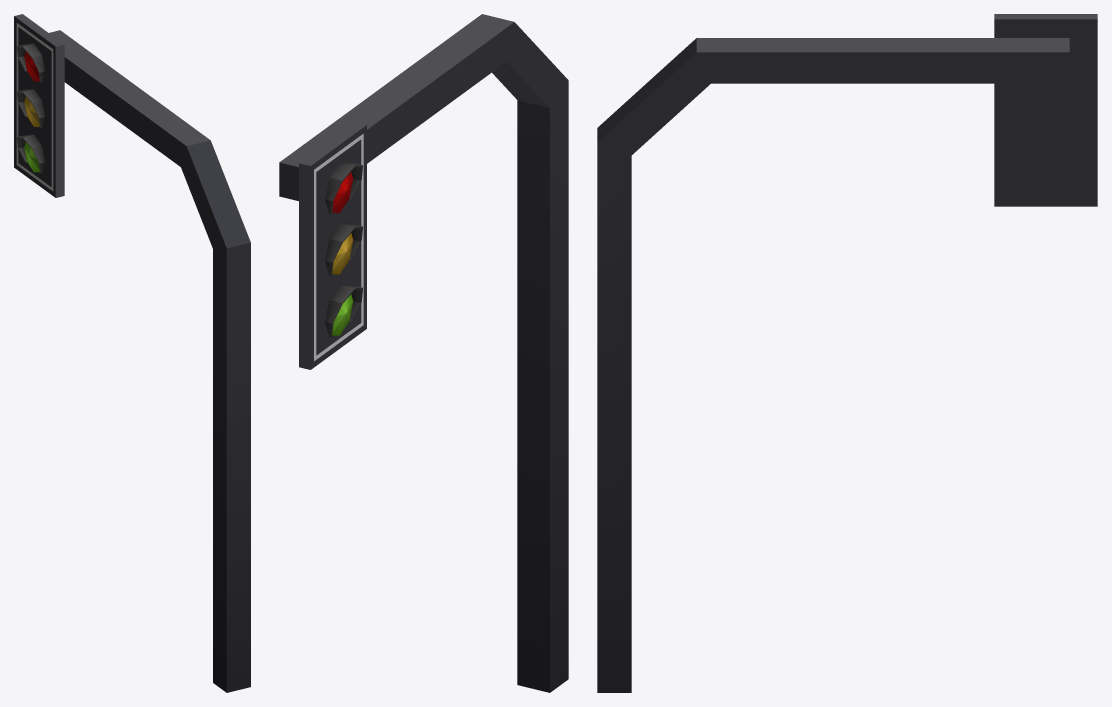
File: Traffic_Light.fbx
3 views of the same model, side by side, from view 1: azimuth 30°, elevation 25°; view 2: azimuth 150°, elevation 25°; view 3: azimuth 270°, elevation 25° (orthographic). The views are drawn at different scales.
Visible parts, largest first — view 1: Traffic_Light; view 2: Traffic_Light; view 3: Traffic_Light.
Boxes of the visible parts, left/top/right/bottom form: Traffic_Light: left=14, top=14, right=250, bottom=692; Traffic_Light: left=279, top=14, right=568, bottom=692; Traffic_Light: left=597, top=14, right=1097, bottom=692.
Bounding box in the file's own units: 48.58 × 526 × 363.
